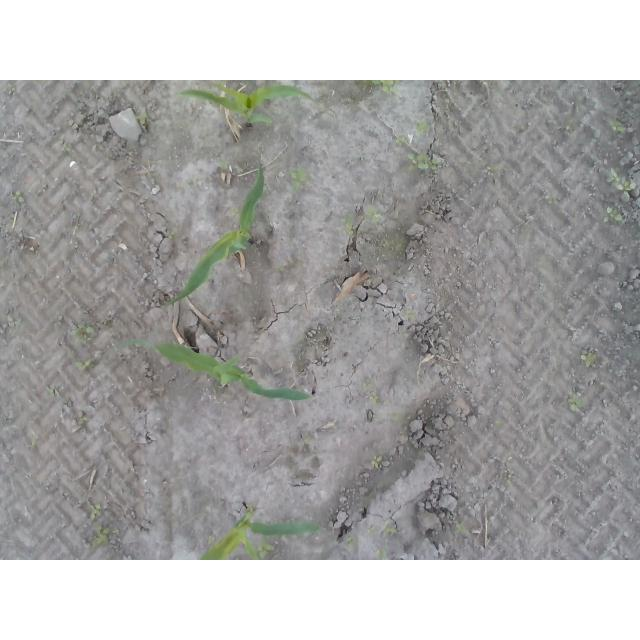Maize: (168, 164, 264, 305), (114, 338, 311, 401), (199, 506, 320, 560), (178, 81, 315, 128)
Weeds: (606, 167, 639, 201), (407, 150, 442, 171), (72, 324, 97, 345), (370, 80, 401, 93), (93, 525, 111, 544), (363, 382, 380, 402), (604, 206, 625, 222), (256, 543, 273, 560), (72, 358, 96, 370), (290, 168, 305, 187), (414, 119, 431, 134), (135, 110, 149, 127), (88, 504, 102, 521), (568, 398, 586, 411), (610, 120, 627, 133), (341, 217, 352, 236), (581, 352, 594, 368), (346, 537, 359, 551), (13, 190, 26, 202), (370, 209, 382, 221), (370, 454, 382, 466), (385, 526, 398, 536), (395, 135, 407, 145), (374, 551, 387, 560), (229, 208, 239, 219), (78, 416, 88, 426)
